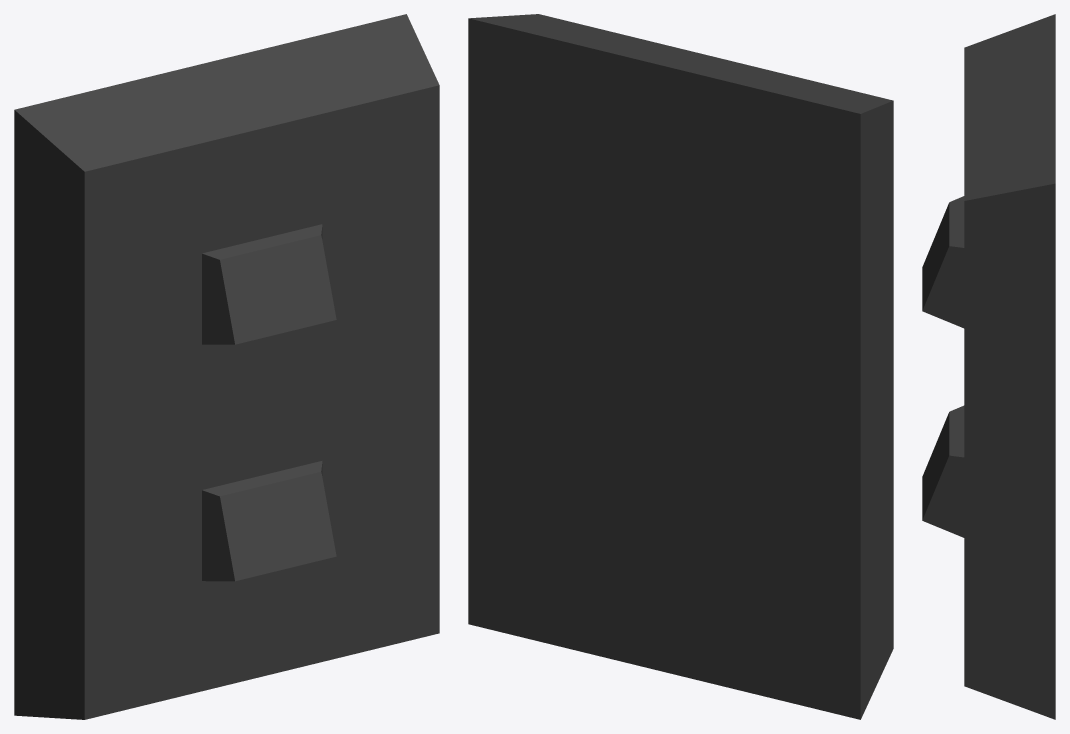
File: SM_Prop_Lightswitch_02.obj
3 renders of one model, left to right at view 1: azimuth 30°, elevation 25°; view 2: azimuth 150°, elevation 25°; view 3: azimuth 270°, elevation 25°, orthographic. The views are drawn at different scales.
Visible parts, largest first — view 1: SM_Prop_Lightswitch_02_0; view 2: SM_Prop_Lightswitch_02_0; view 3: SM_Prop_Lightswitch_02_0.
Part boxes in pixels (x1,y1,x2,y2): SM_Prop_Lightswitch_02_0: (14, 14, 439, 719); SM_Prop_Lightswitch_02_0: (468, 14, 893, 719); SM_Prop_Lightswitch_02_0: (922, 14, 1055, 719).
Size of the model in its own units: 0.1207 by 0.1781 by 0.0402.
1 material, 1 textured.
